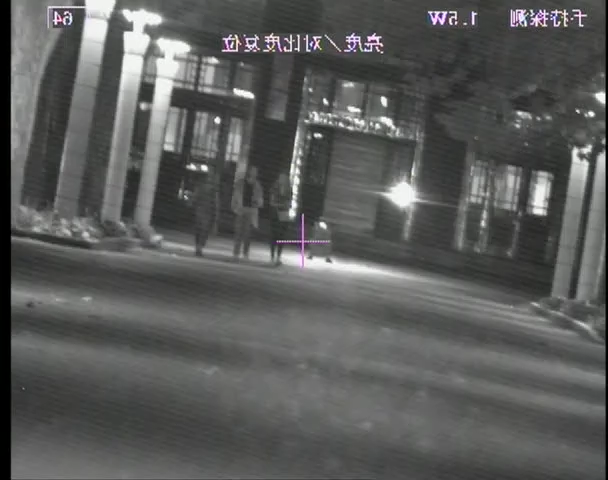my: (316, 218, 327, 230)
